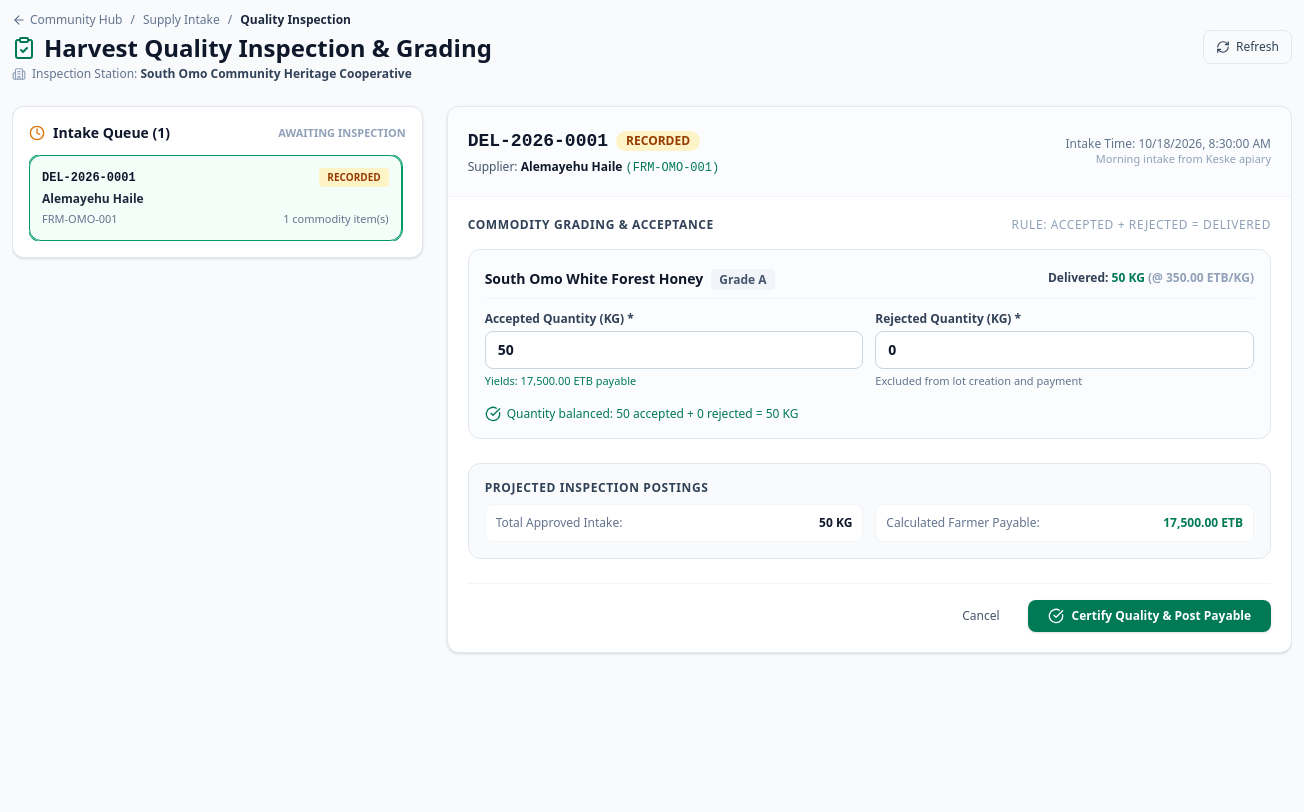
Scenario: Quality Inspection & Grading Screen (F-805) › displays backend error message if inspection fails on server
This screenshot has width=1304, height=812.
Expected: the number field with test id "accepted-qty-input-0" is shown, [485,331,863,369]
What coordinates should you click on to do the following:
click the button with test id "submit-inspection-button"
I would click on:
 (1149, 616)
Its box is [1028,600,1271,632].
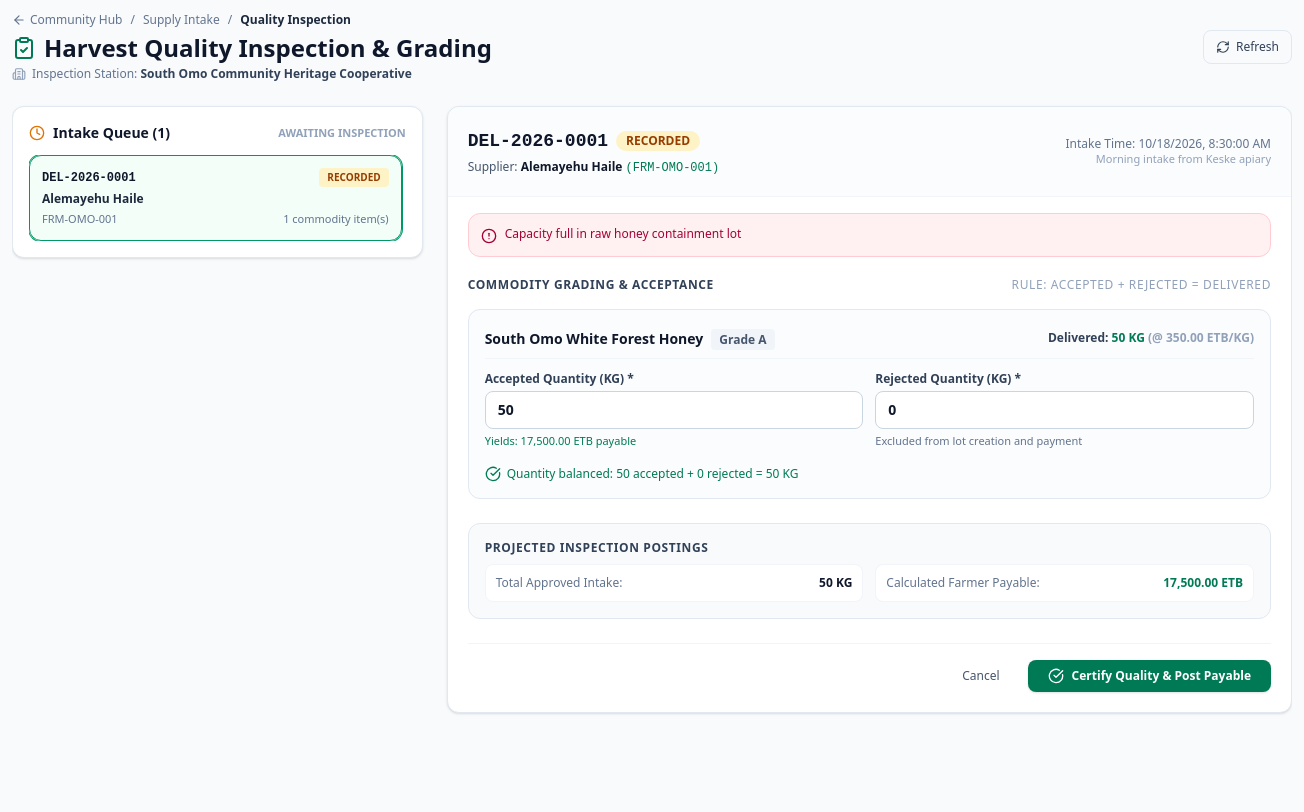
Result: the element with test id "inspection-form-error" reads "Capacity full in raw honey containment lot" at [505,225,742,242]
